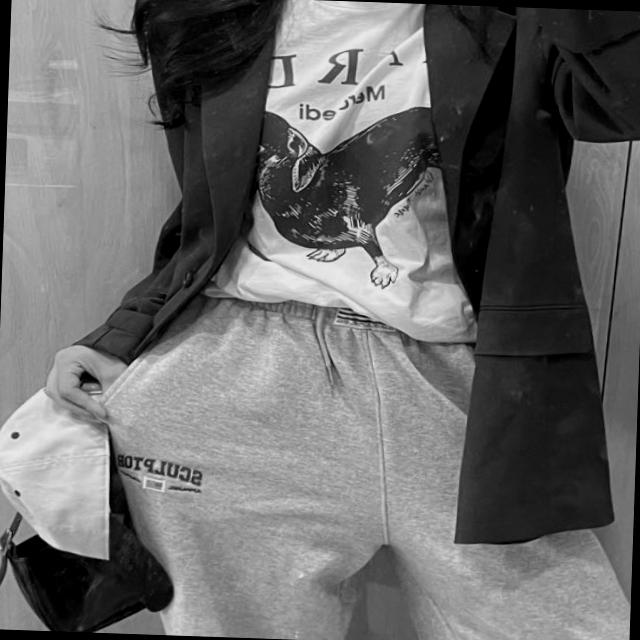blazer: (71, 0, 640, 557)
trainingpants: (88, 288, 640, 640)
